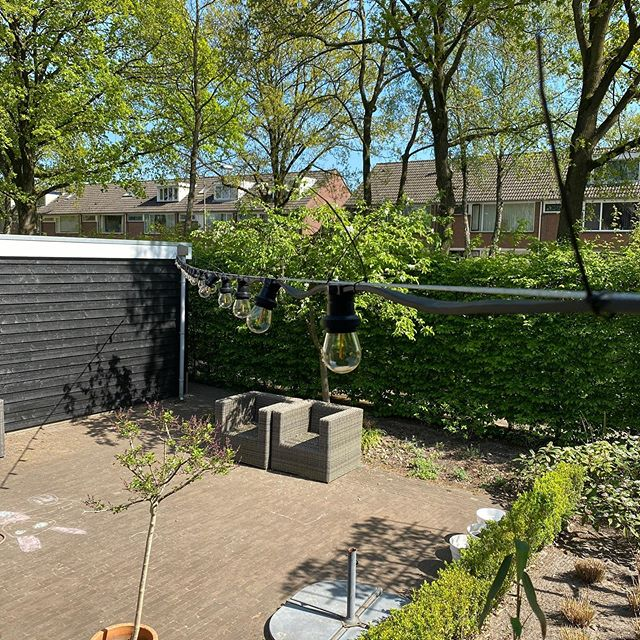building: (1, 238, 218, 437), (380, 152, 640, 256), (48, 172, 339, 238)
chair: (208, 385, 303, 477), (276, 401, 359, 491)
tree: (59, 395, 236, 640), (1, 1, 160, 219), (186, 1, 349, 211), (513, 1, 640, 243), (405, 1, 534, 223), (329, 1, 443, 230), (146, 20, 243, 209)
vegetation: (191, 211, 640, 410)
